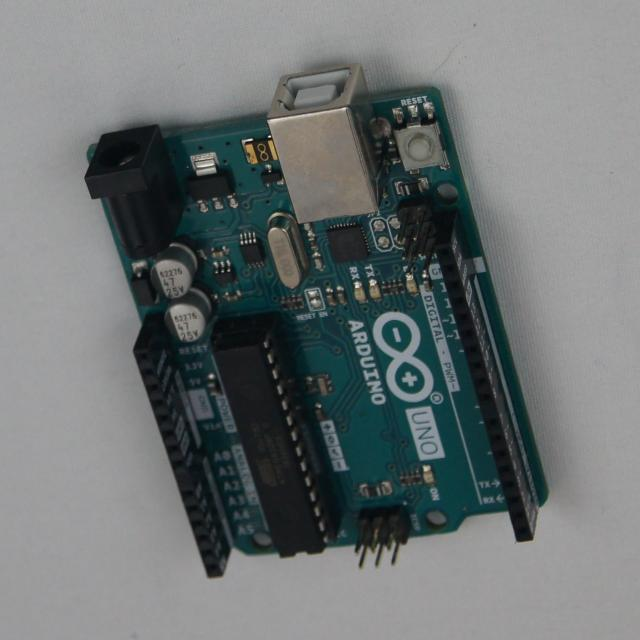Arduino Uno -Green-: (86, 65, 548, 578)
